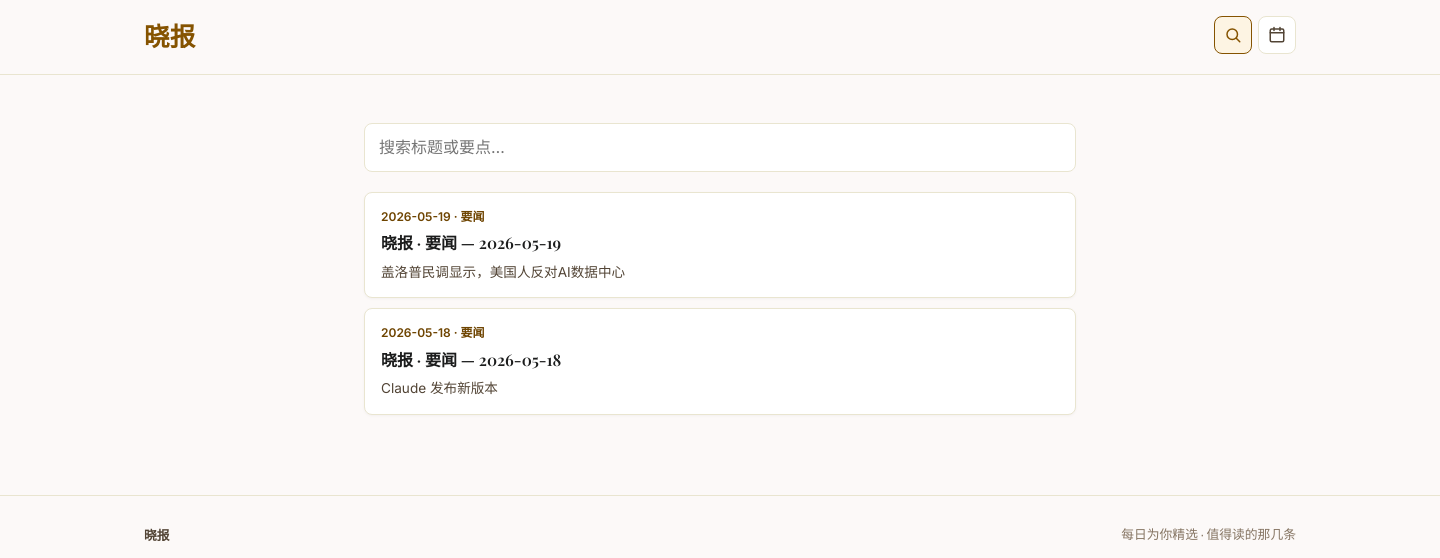
Scenario: Search route › shows '没有匹配的报告' when nothing matches
Step 1. Type "zzzzzz" into the field → (720, 147), box 364,123 -> 1076,172
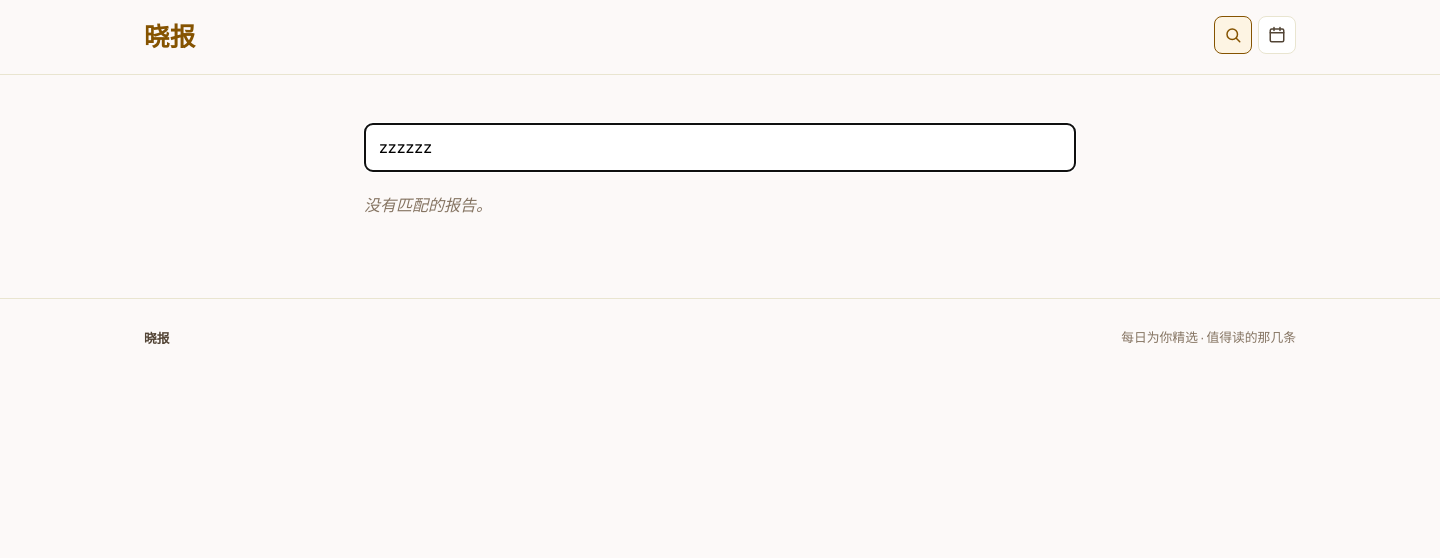
Result: the text "没有匹配的报告。" is shown at 364,195 -> 492,215
